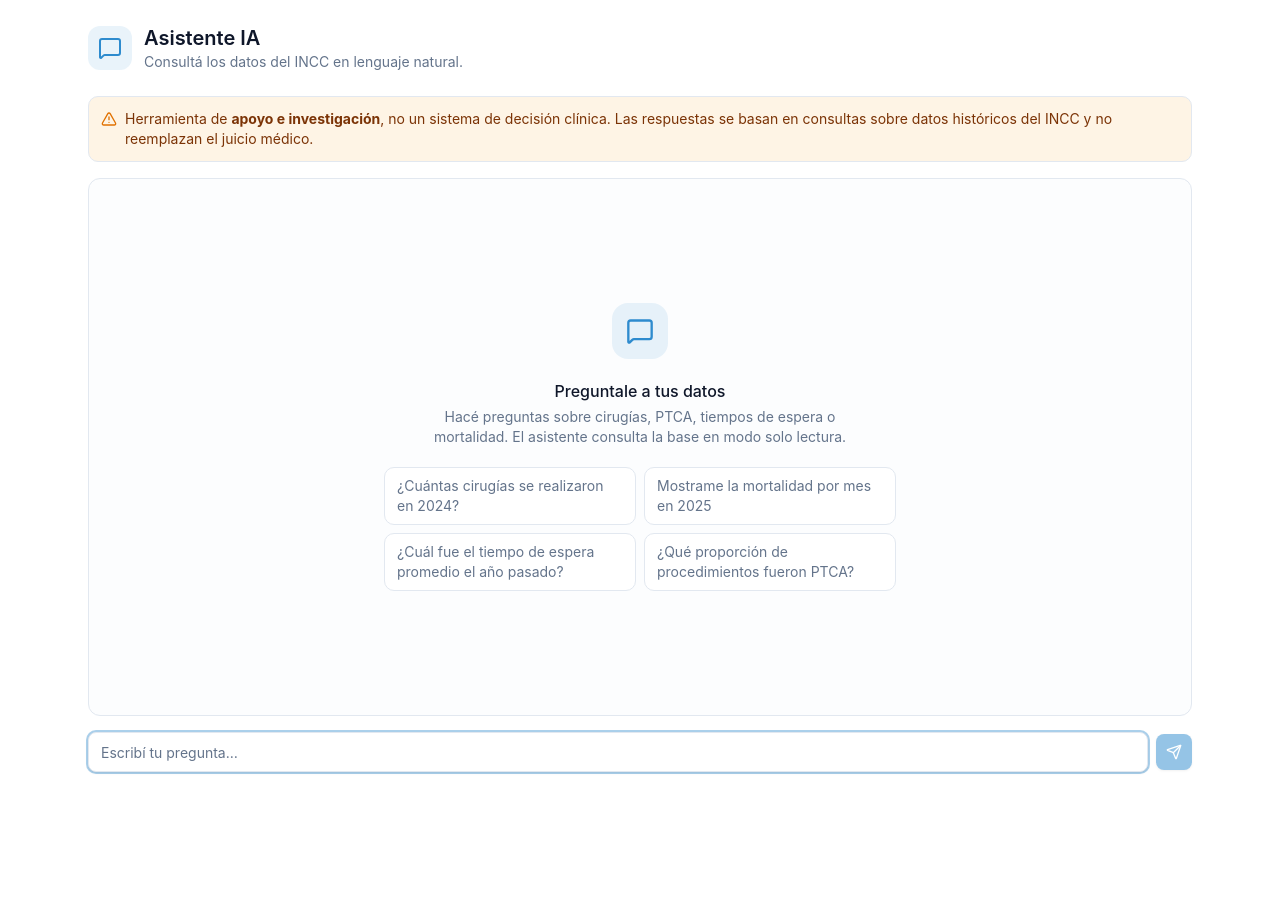
AgentePage › muestra preview truncado de muchas filas
The image size is (1280, 900).
Type "lista" into the field with placeholder "Escribí tu pregunta…" at (618, 752), box [88,732,1148,772]
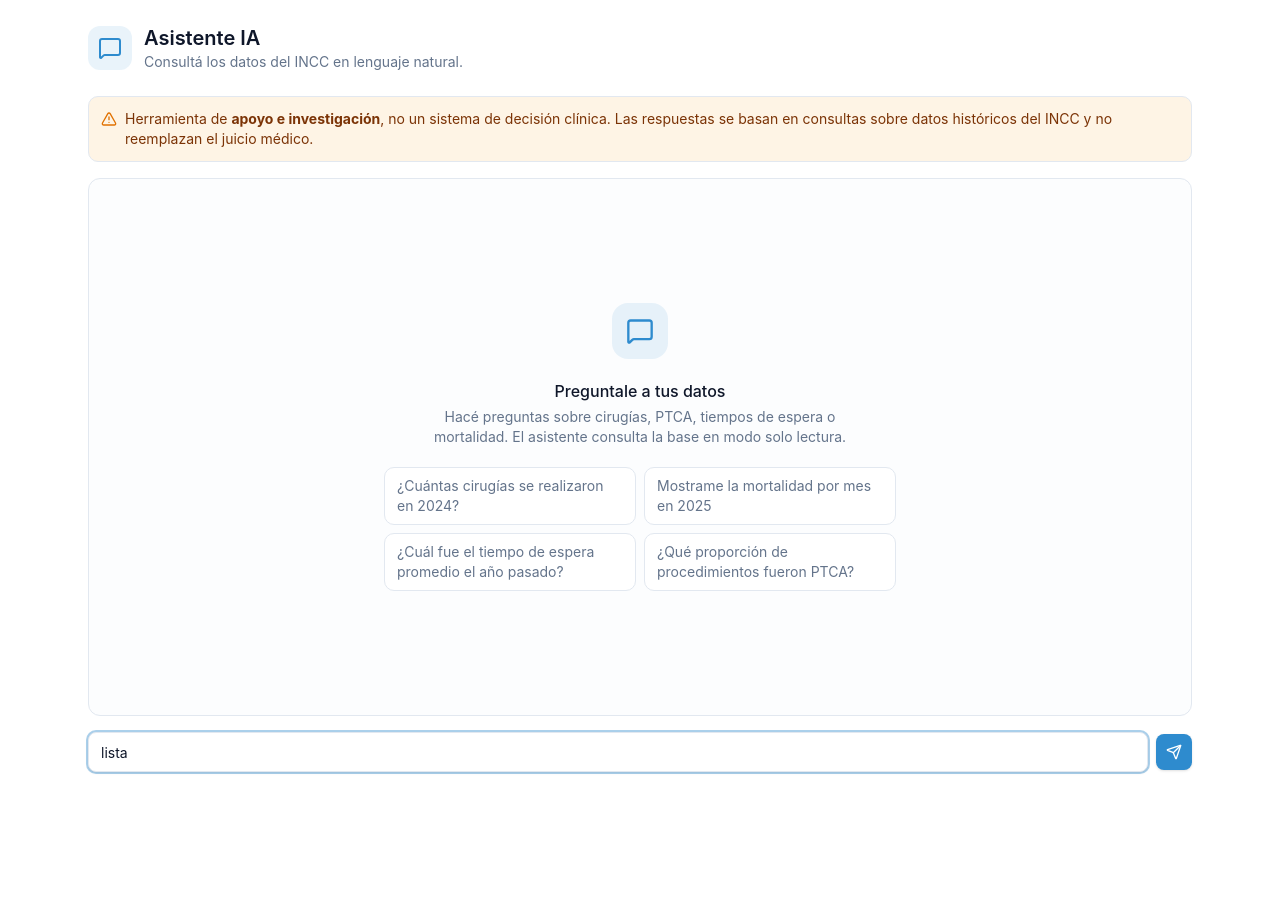
Click the button named "Enviar" at (1174, 752), box [1156,734,1192,770]
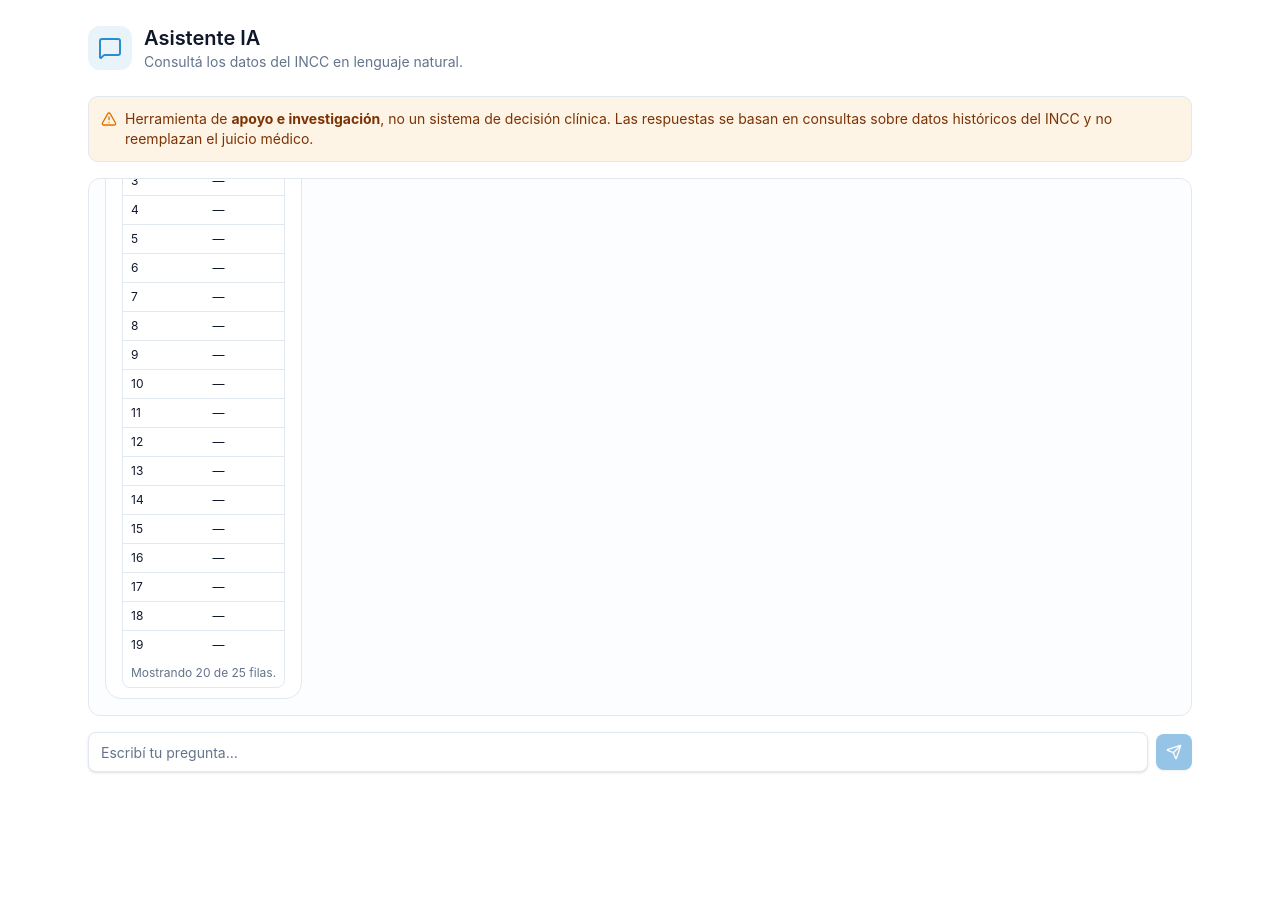
Expected: the text "Mostrando 20 de 25 filas." is shown, [131,664,276,680]
